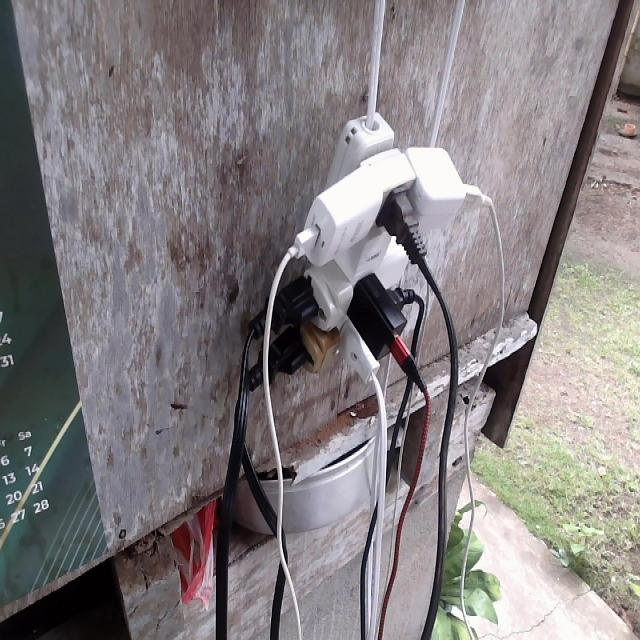-: (248, 114, 489, 398)
